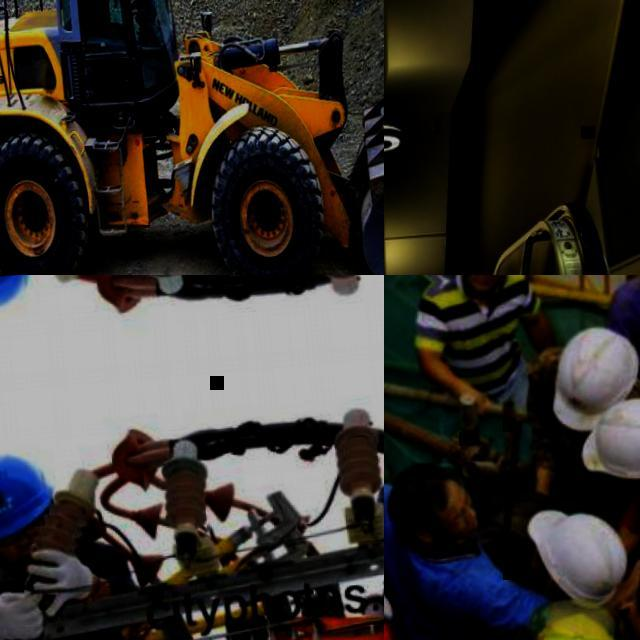Helmet: (523, 500, 640, 630), (551, 320, 640, 438), (0, 446, 71, 536), (575, 397, 640, 481)
Robbery: (0, 458, 130, 640), (411, 258, 544, 421), (386, 463, 507, 640), (506, 501, 625, 640), (554, 310, 640, 451), (573, 393, 640, 513)
